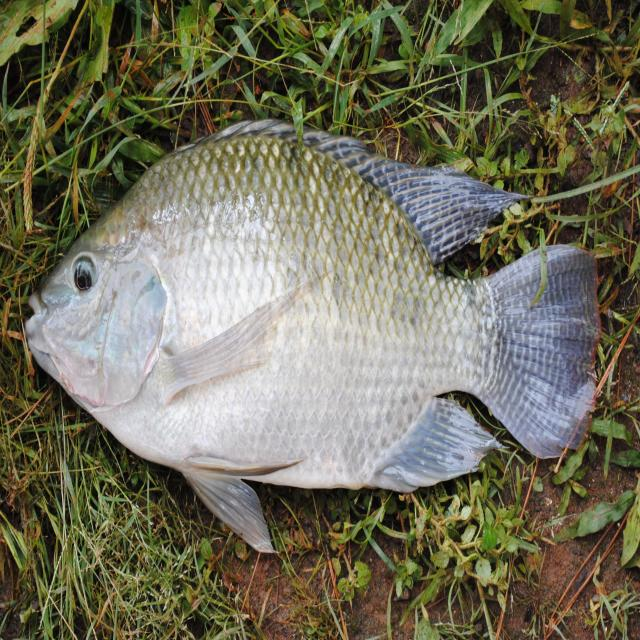ikan: (16, 86, 618, 574)
